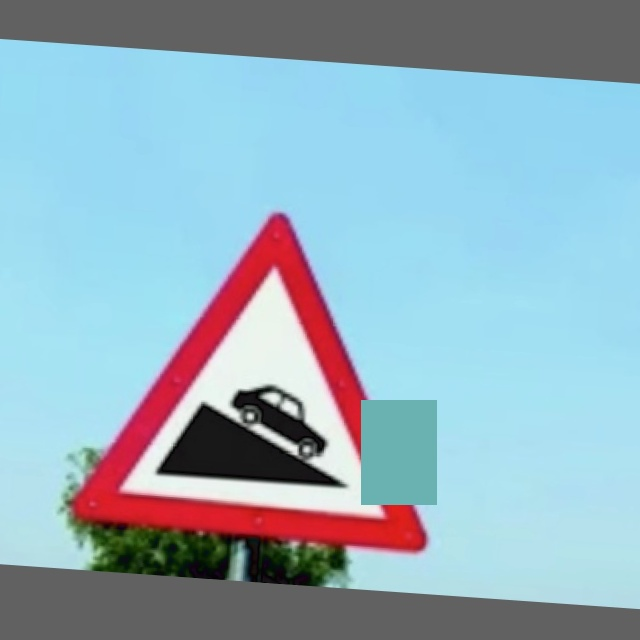Steep_Descent: (75, 205, 444, 548)
